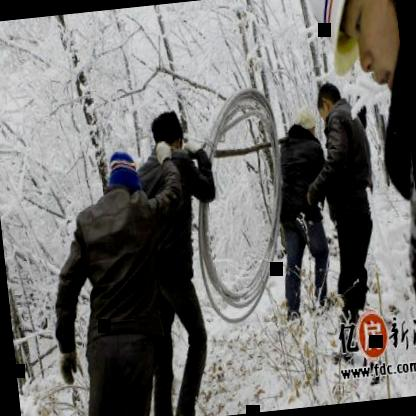head: (96, 143, 146, 214), (147, 102, 192, 168), (310, 80, 351, 128), (292, 103, 322, 148)
helmet: (302, 0, 405, 108)
